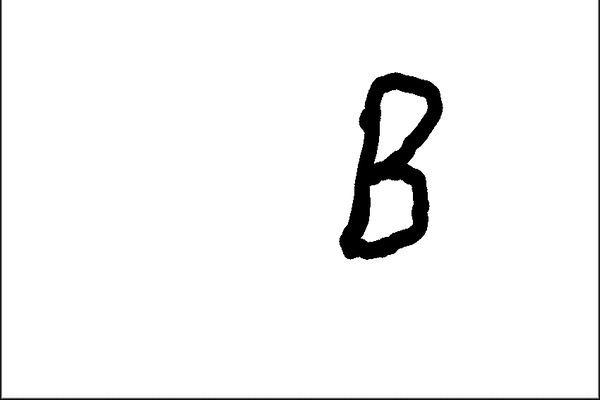B: (335, 67, 446, 262)
